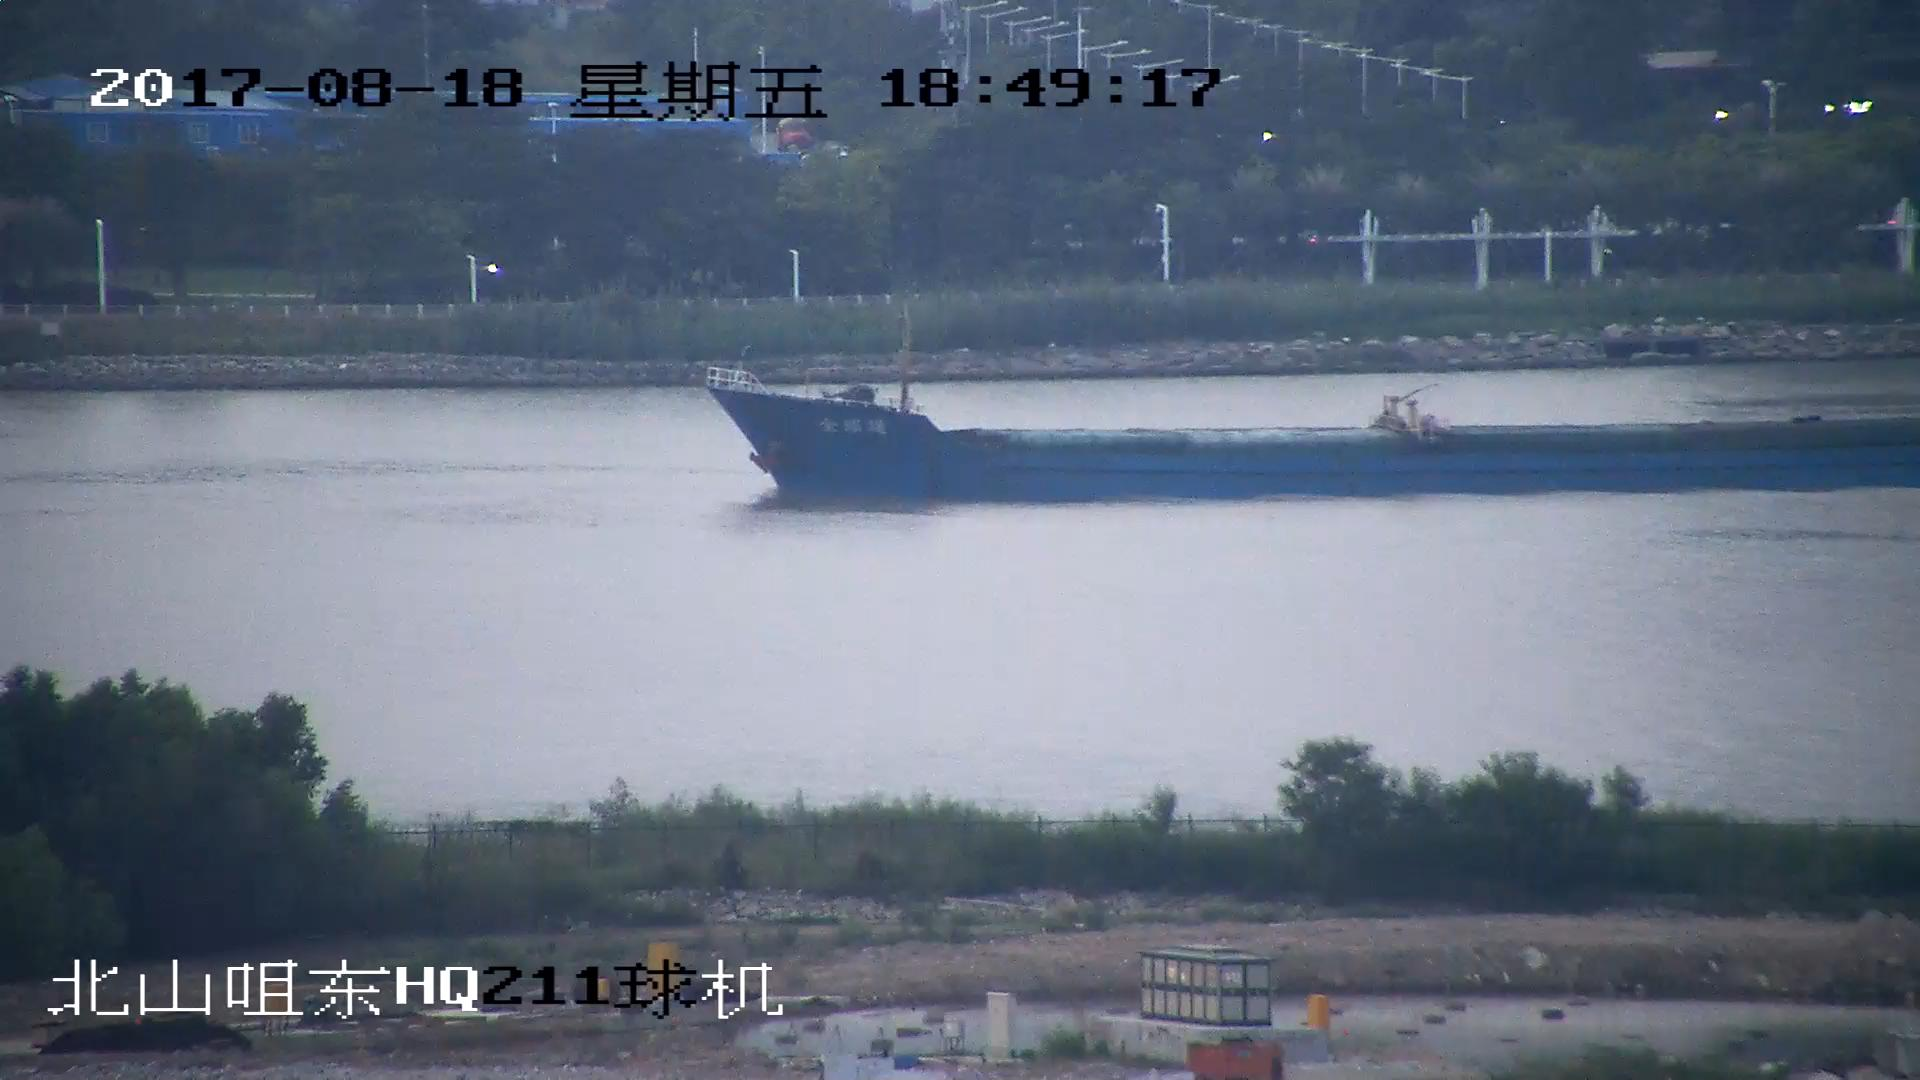general cargo ship: (704, 365, 1920, 502)
